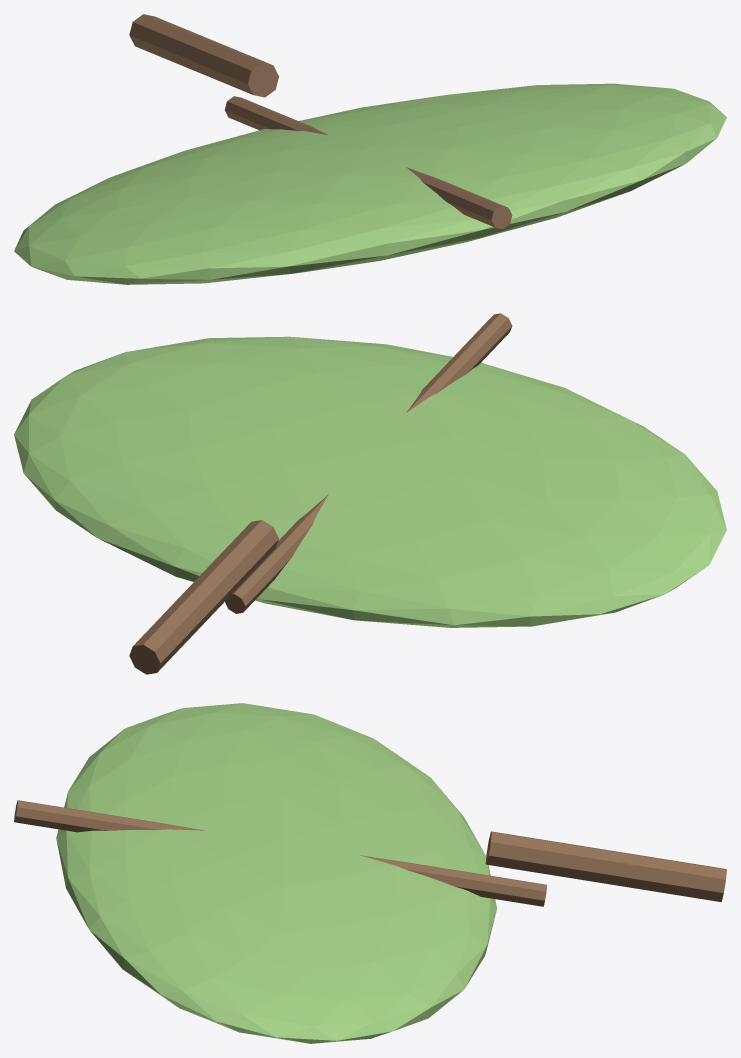
File: env_fallen_leaf_v1.glb
3 renders of one model, top to bottom at view 1: azimuth 30°, elevation 25°; view 2: azimuth 150°, elevation 25°; view 3: azimuth 270°, elevation 25°, orthographic.
Visible parts, largest first — view 1: fallen_leaf_body, leaf_stem, leaf_center_vein; view 2: fallen_leaf_body, leaf_stem, leaf_center_vein; view 3: fallen_leaf_body, leaf_stem, leaf_center_vein.
Boxes of the visible parts, bbox=[...] form: fallen_leaf_body: bbox=[14, 83, 726, 284]; leaf_stem: bbox=[129, 14, 278, 97]; leaf_center_vein: bbox=[224, 96, 512, 228]; fallen_leaf_body: bbox=[14, 336, 726, 627]; leaf_stem: bbox=[129, 520, 278, 674]; leaf_center_vein: bbox=[225, 313, 512, 613]; fallen_leaf_body: bbox=[56, 703, 496, 1043]; leaf_stem: bbox=[485, 831, 726, 902]; leaf_center_vein: bbox=[14, 800, 547, 906].
Bounding box in the file's own units: 0.52 × 0.0893 × 0.4778.
